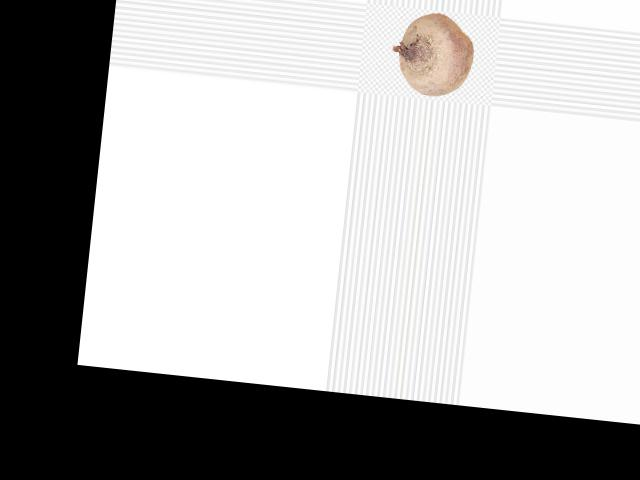beet: (387, 9, 476, 99)
